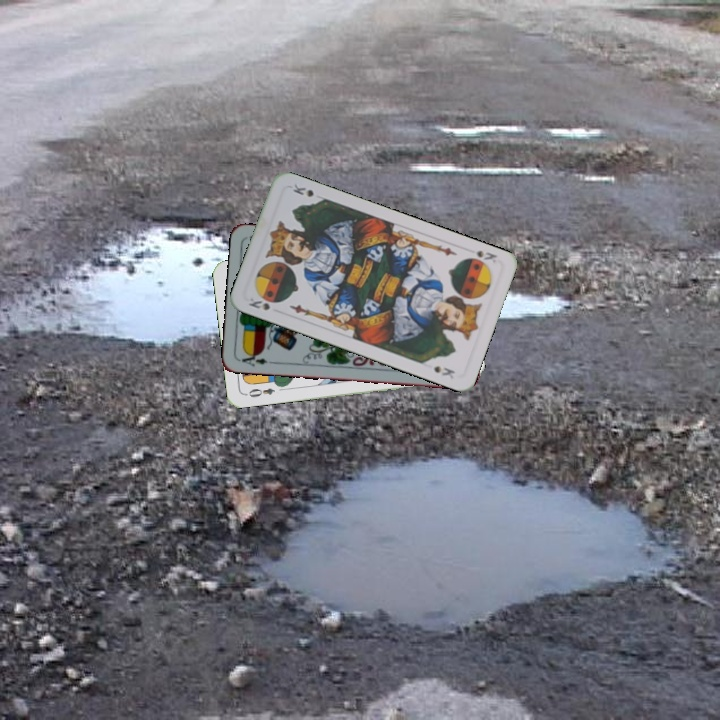EA: (236, 348, 270, 369)
EO: (241, 384, 277, 400)
SK: (471, 246, 500, 266), (244, 293, 272, 313)
